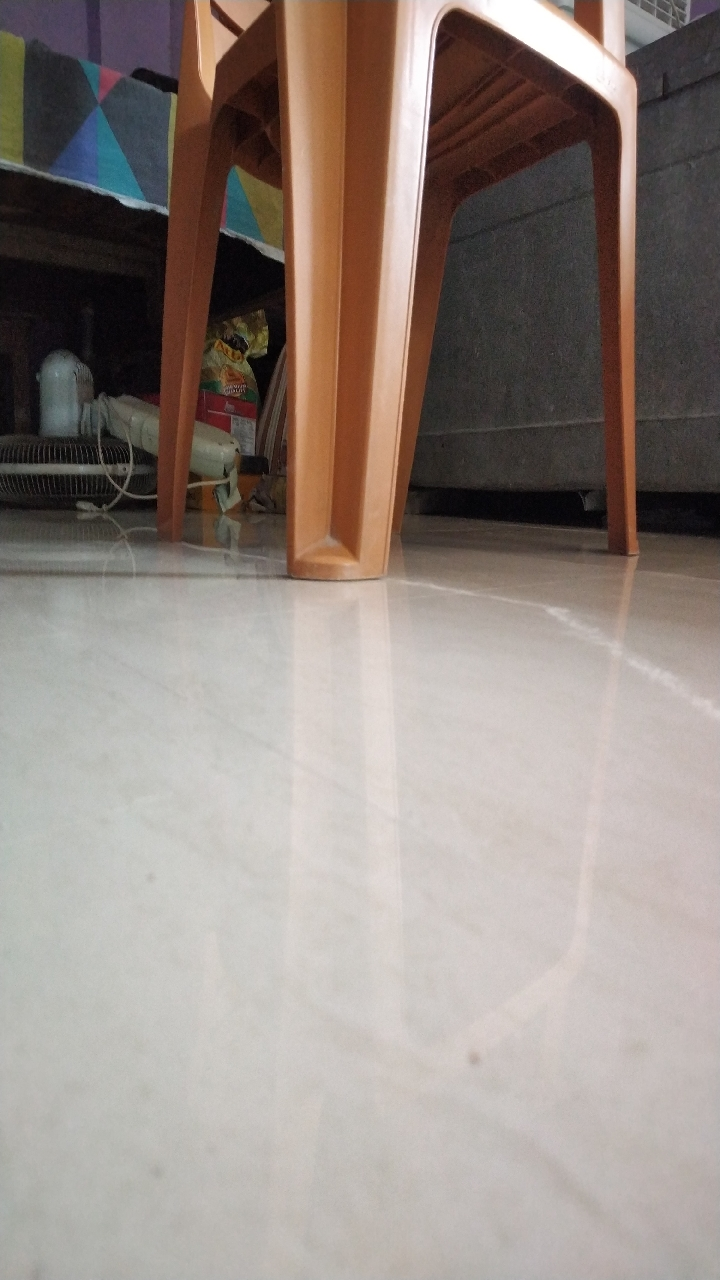Furnitures: (148, 237, 671, 607)
cables: (81, 394, 147, 519)
